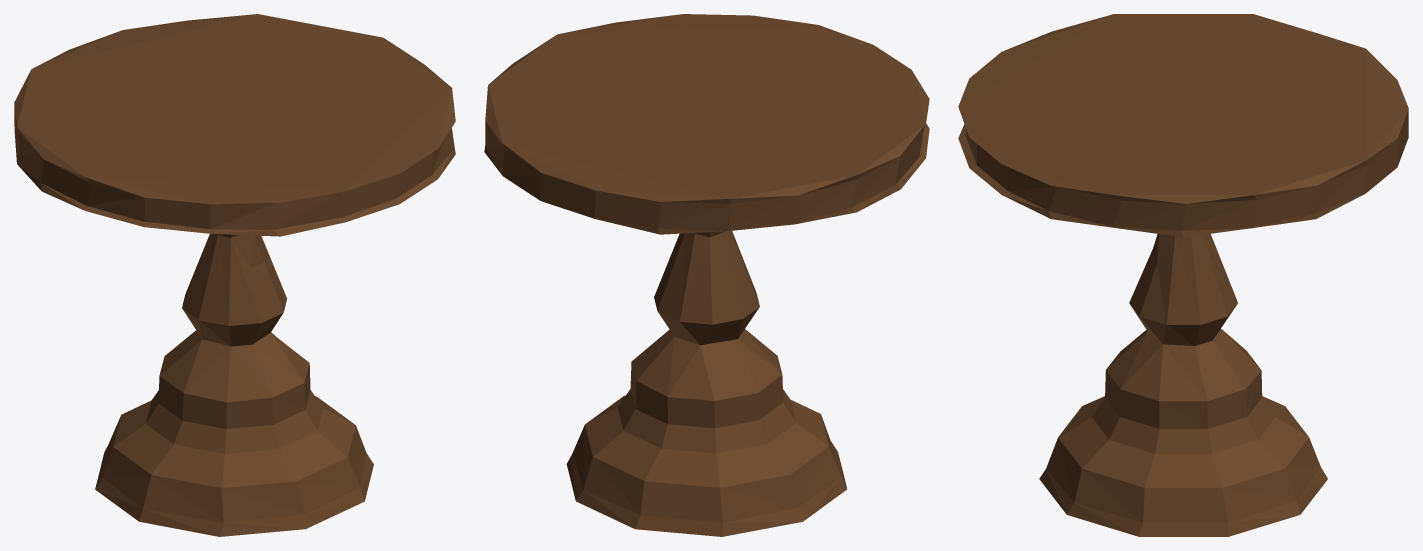
The model's file is cafe_side_table.fbx.
3 renders of one model, left to right at view 1: azimuth 30°, elevation 25°; view 2: azimuth 150°, elevation 25°; view 3: azimuth 270°, elevation 25°, orthographic.
Visible parts, largest first — view 1: cafe_side_table_LOD0; view 2: cafe_side_table_LOD0; view 3: cafe_side_table_LOD0.
Boxes of the visible parts, x1,y1,x2,y2 form: cafe_side_table_LOD0: (14,14,455,536); cafe_side_table_LOD0: (484,14,929,536); cafe_side_table_LOD0: (958,14,1408,536).
Size of what is drawn, in the model's own units: 0.6 by 0.5499 by 0.5996.
Materials: 1 (1 with a texture image).
